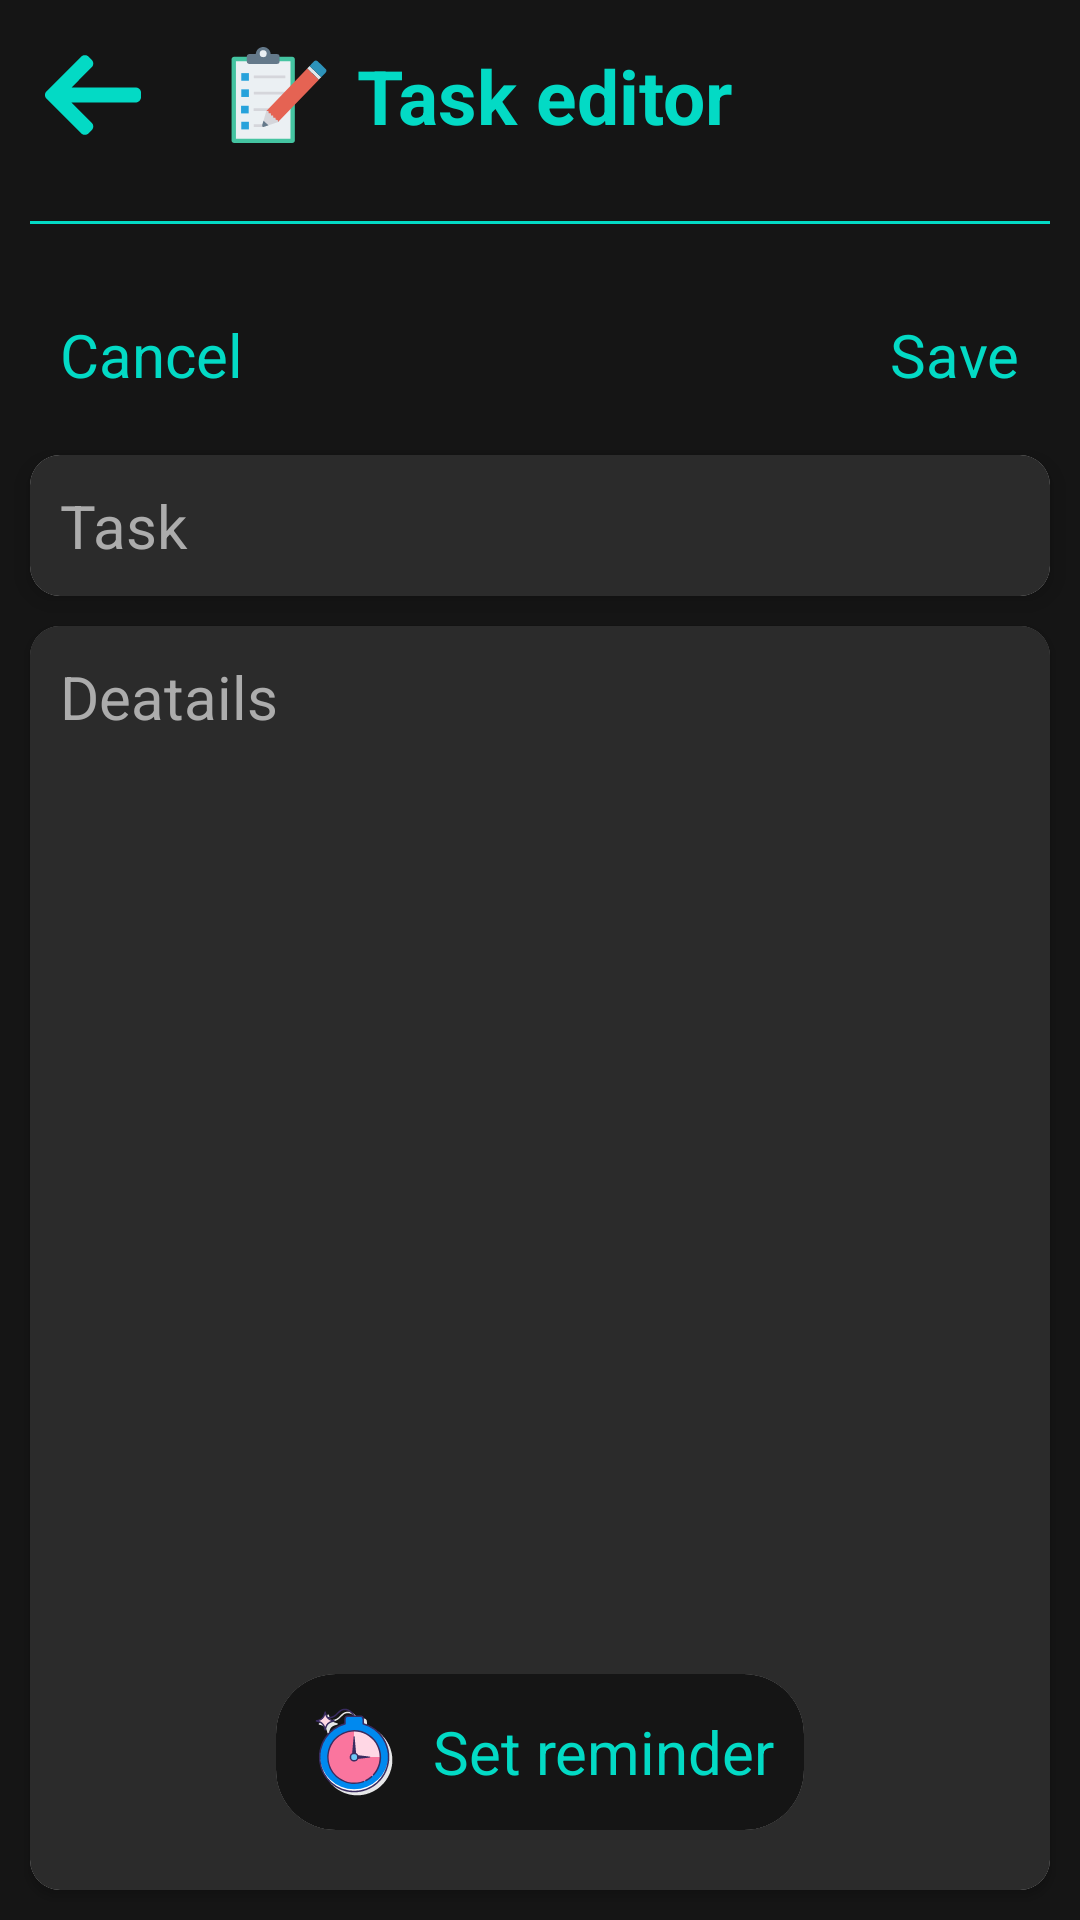

Icons on this 1080*1920 Android screen, each with its box as (x1, y1, x2, y2):
back: (45, 55, 141, 135)
